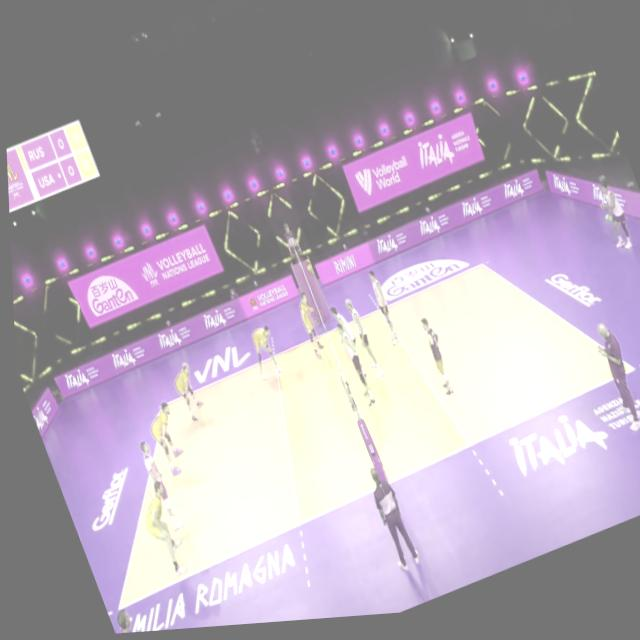player: (128, 477, 188, 583), (133, 438, 182, 540), (328, 321, 377, 418), (337, 295, 384, 396), (139, 398, 189, 483), (358, 269, 401, 356), (590, 183, 635, 266), (412, 319, 454, 404), (164, 360, 208, 434), (289, 291, 327, 369), (242, 325, 282, 390), (324, 304, 357, 359)
